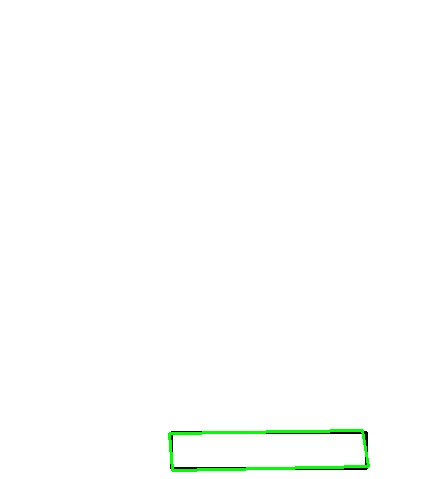line_segment: (169, 430, 369, 471)
